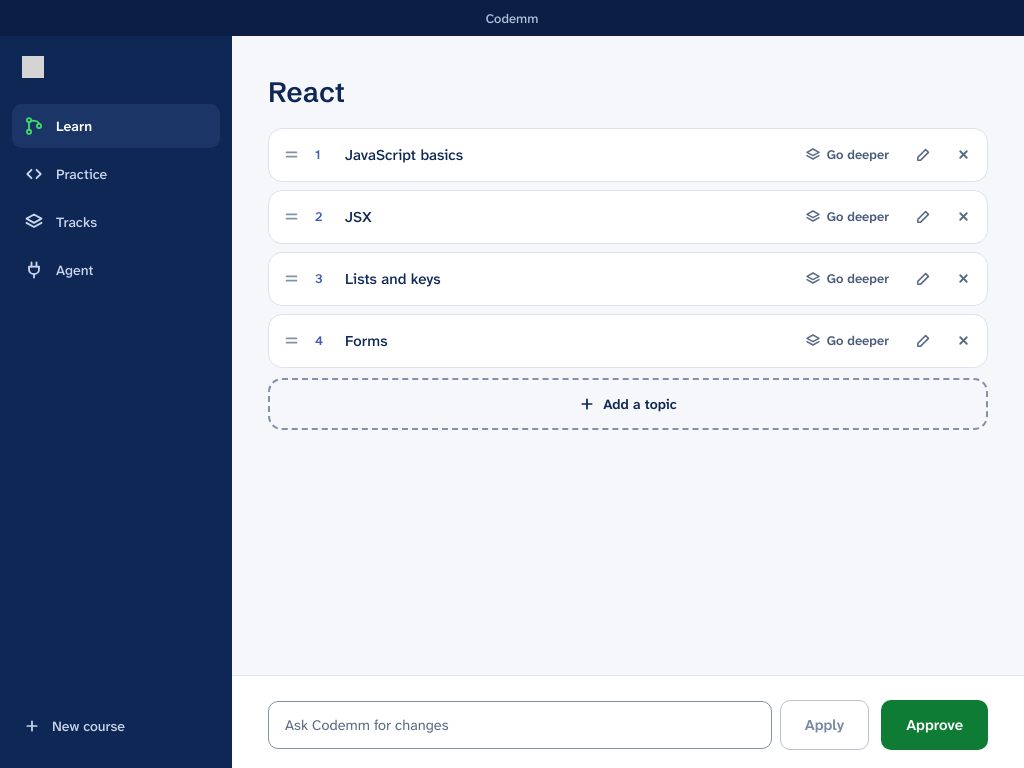
course editor › cannot approve while a topic is being renamed
Expected: the heading "React" is shown, x1=268 y1=75 x2=345 y2=109
Click the button named "Rename Forms" at (923, 341), box x1=907 y1=325 x2=939 y2=357
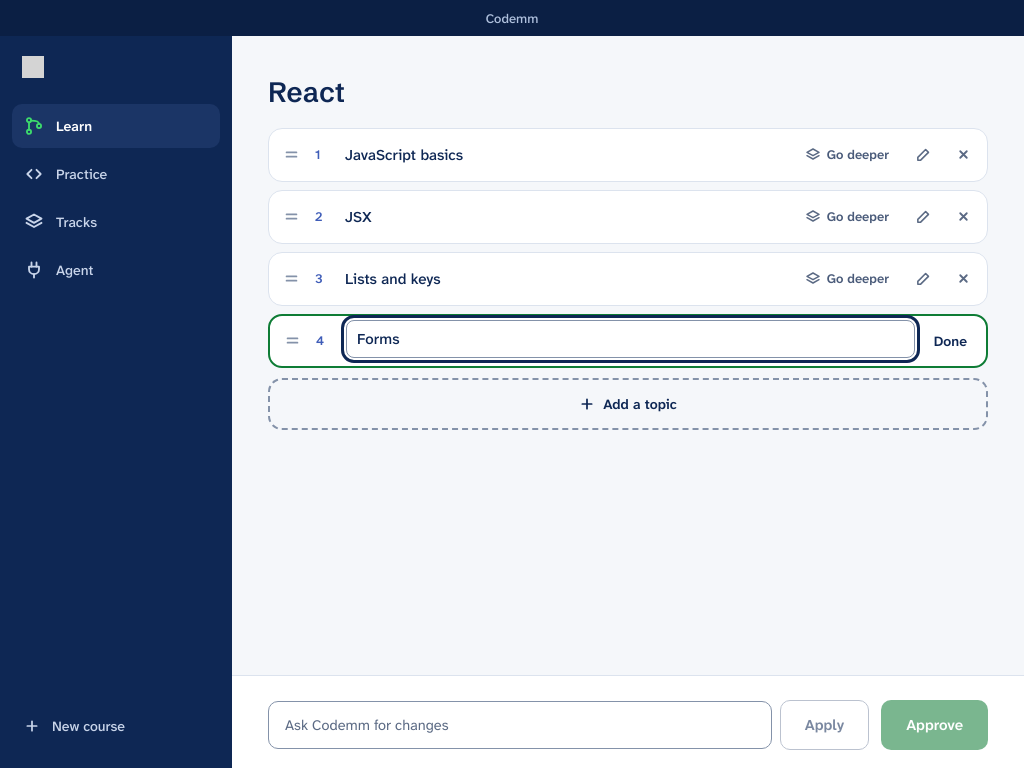
Result: the button "Approve" is disabled at x1=881 y1=700 x2=988 y2=750
Click the button "Done" at (950, 341), box x1=923 y1=320 x2=978 y2=362
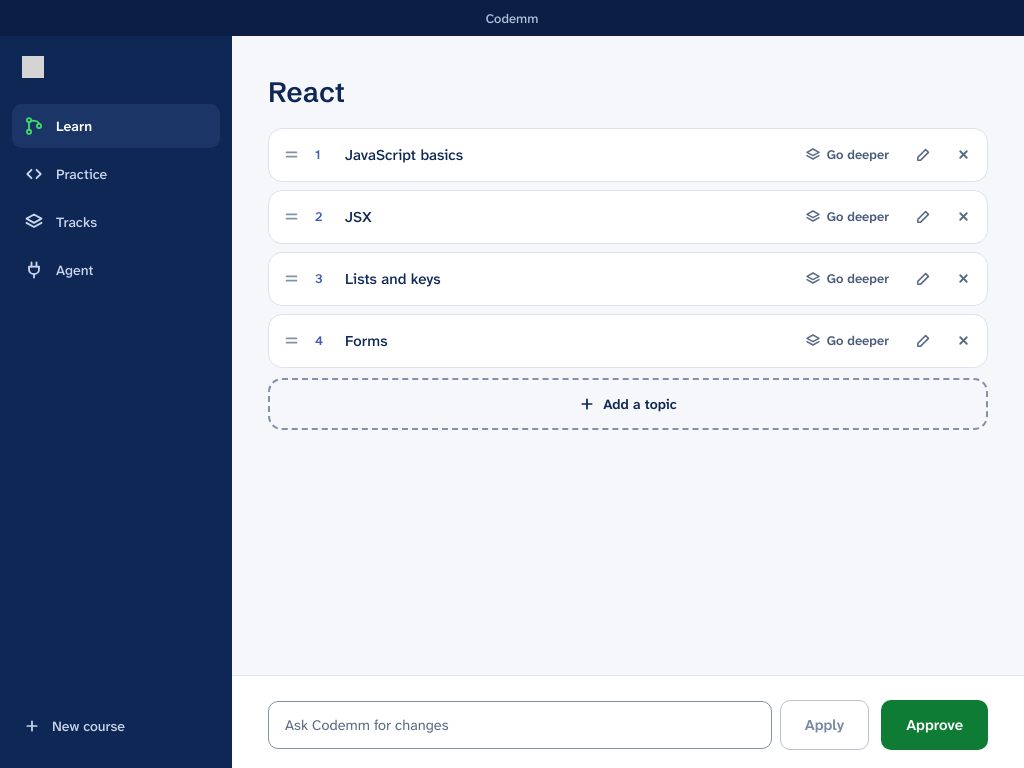
Result: the button "Approve" is enabled at x1=881 y1=700 x2=988 y2=750
